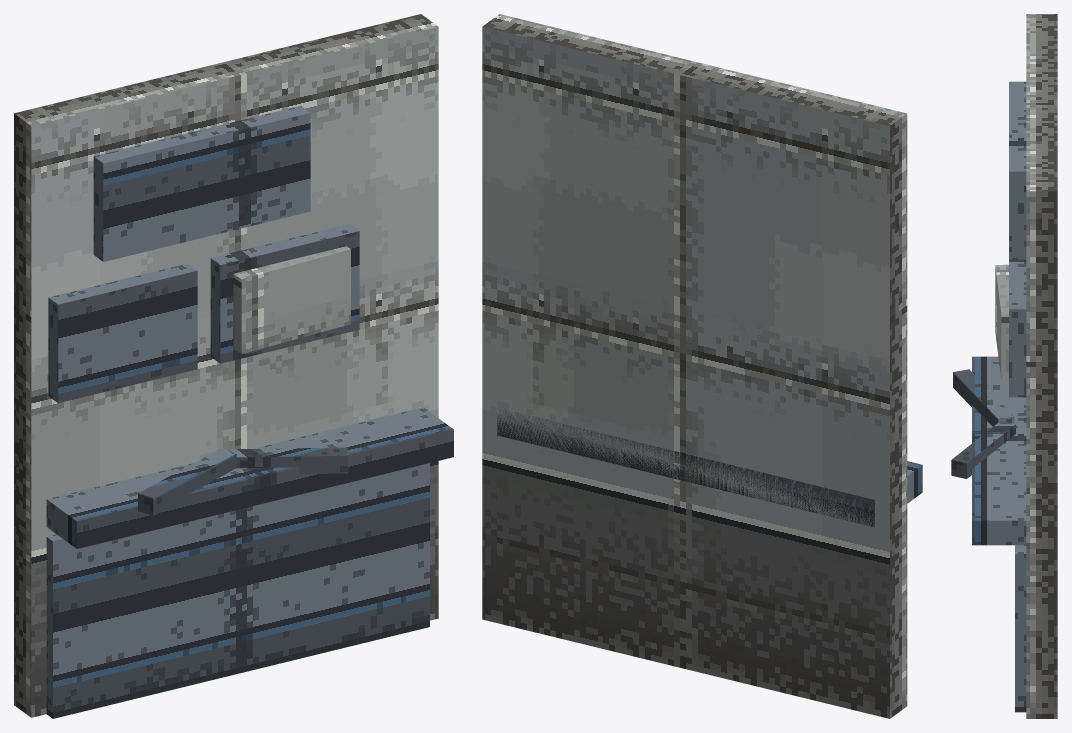
The model's file is tp_dm_screen_wall.glb.
3 renders of one model, left to right at view 1: azimuth 30°, elevation 25°; view 2: azimuth 150°, elevation 25°; view 3: azimuth 270°, elevation 25°, orthographic. The views are drawn at different scales.
Parts seen in each view (by area): view 1: dm_sw_frame, dm_sw_kick, dm_sw_screen_2, dm_sw_desk, dm_sw_screen_0, dm_sw_cracked, dm_sw_screen_1, dm_sw_loop_a, dm_sw_loop_b; view 2: dm_sw_frame, dm_sw_desk; view 3: dm_sw_frame, dm_sw_desk, dm_sw_screen_2, dm_sw_screen_1, dm_sw_kick, dm_sw_loop_a, dm_sw_loop_b, dm_sw_cracked.
Part boxes in pixels (x1=…): dm_sw_frame: x1=14, y1=14, x2=438, y2=717; dm_sw_kick: x1=46, y1=463, x2=429, y2=718; dm_sw_screen_2: x1=93, y1=105, x2=310, y2=261; dm_sw_desk: x1=46, y1=407, x2=453, y2=548; dm_sw_screen_0: x1=48, y1=263, x2=197, y2=403; dm_sw_cracked: x1=233, y1=246, x2=350, y2=354; dm_sw_screen_1: x1=210, y1=224, x2=359, y2=363; dm_sw_loop_a: x1=138, y1=448, x2=236, y2=515; dm_sw_loop_b: x1=230, y1=447, x2=348, y2=474; dm_sw_frame: x1=482, y1=14, x2=907, y2=718; dm_sw_desk: x1=497, y1=409, x2=922, y2=527; dm_sw_frame: x1=1026, y1=14, x2=1057, y2=718; dm_sw_desk: x1=972, y1=356, x2=1026, y2=545; dm_sw_screen_2: x1=1009, y1=81, x2=1026, y2=259; dm_sw_screen_1: x1=1009, y1=259, x2=1026, y2=397; dm_sw_kick: x1=1015, y1=545, x2=1026, y2=712; dm_sw_loop_a: x1=953, y1=369, x2=1014, y2=426; dm_sw_loop_b: x1=951, y1=421, x2=1015, y2=478; dm_sw_cracked: x1=995, y1=264, x2=1008, y2=380.
Bounding box in the file's own units: 2.16 × 3 × 0.5465.
2 materials, 2 textured.
